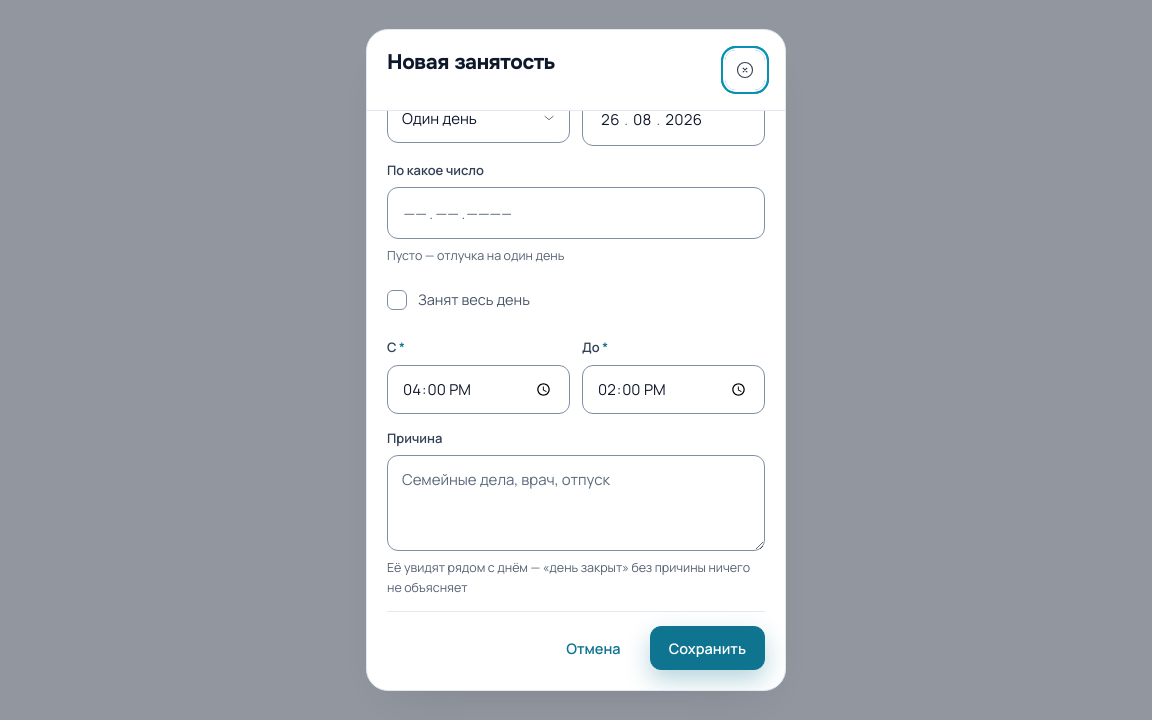
Test: Окно занятости › конец окна раньше начала не уходит на сервер — подсказка под полем
The width and height of the screenshot is (1152, 720).
(page scrolled)
Click the button "Сохранить".
click(707, 648)  # box [650, 626, 765, 670]
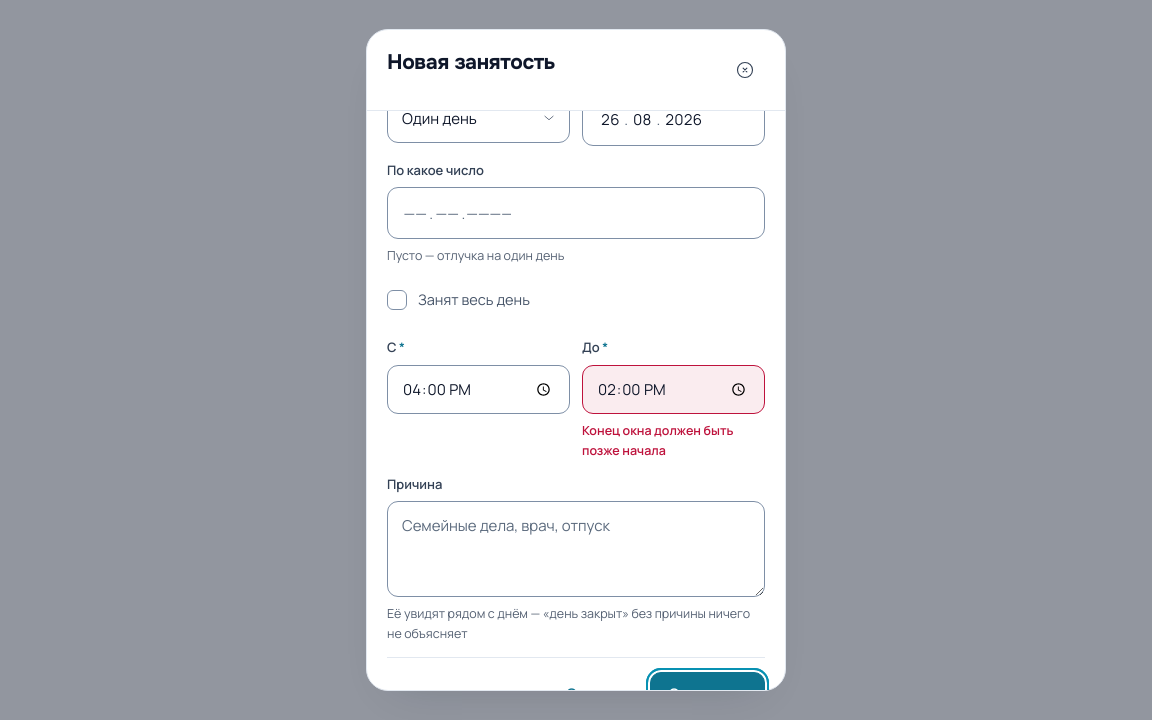
Result: the text "Конец окна должен быть позже начала" is shown at [582, 422, 733, 459]
